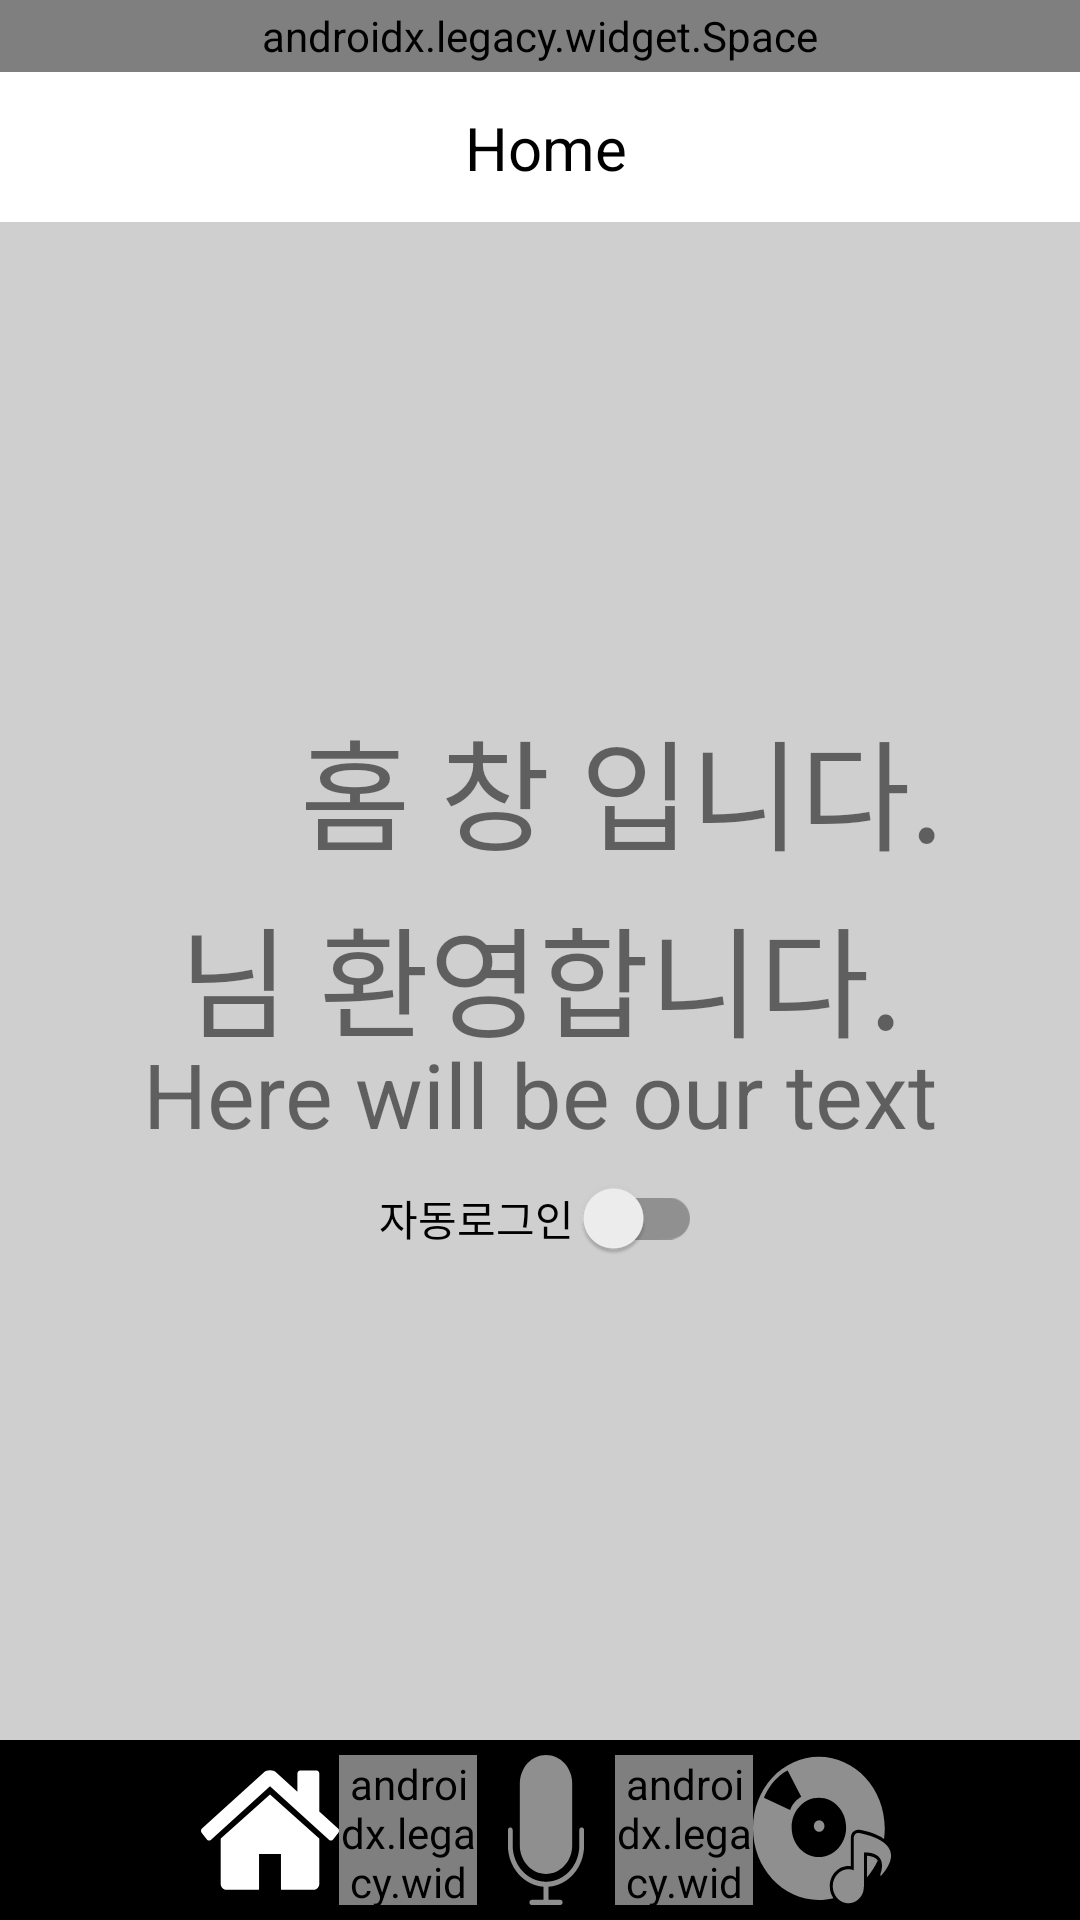

Icons on this 1080 x 1920 Android screen, each with the point to tap as (x,y):
home clicked: (270,1842)
microphone: (546,1830)
music album: (822,1830)
